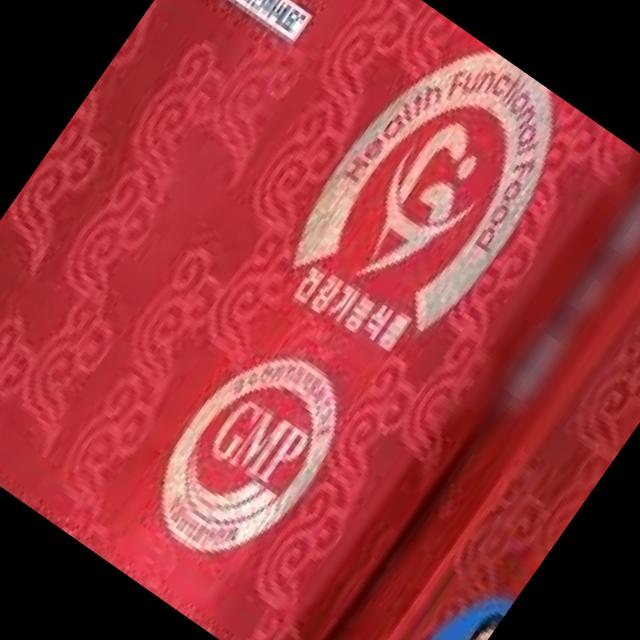GMP: (121, 318, 372, 594)
